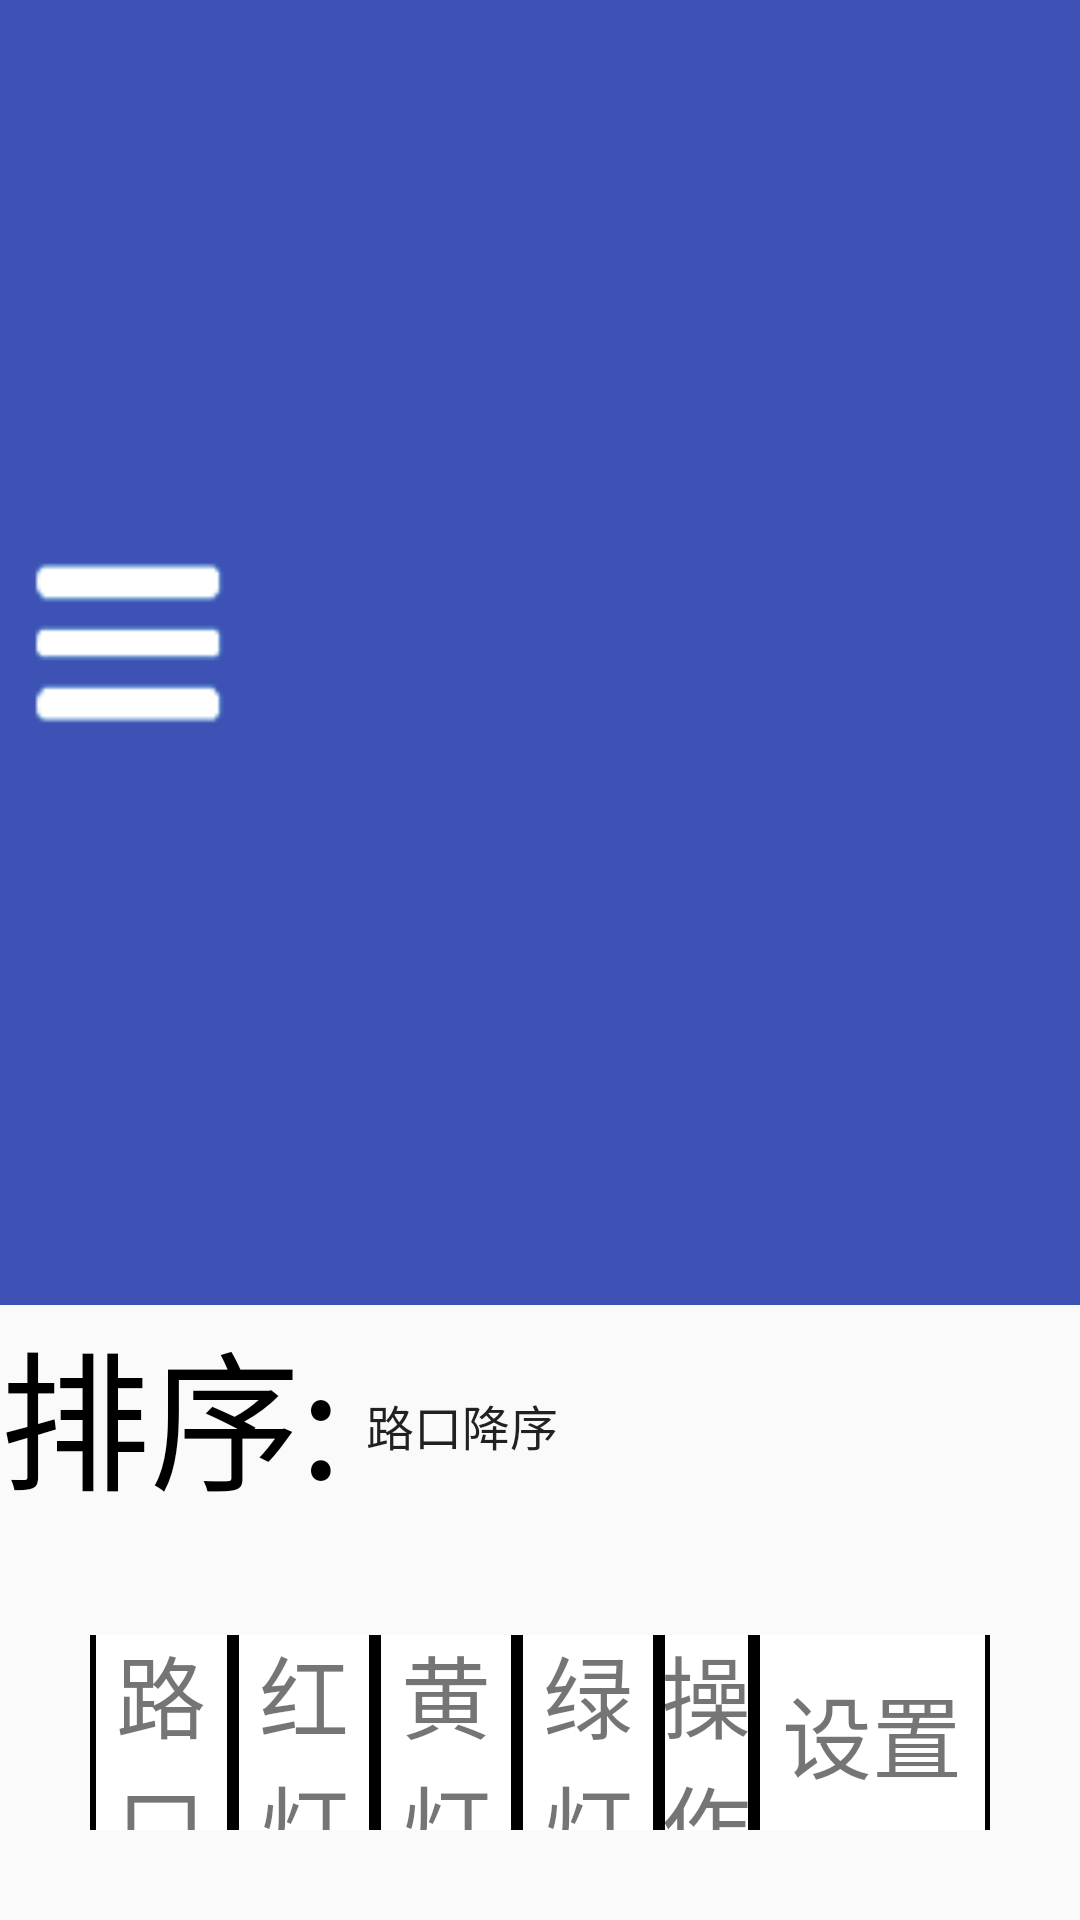

Screen size 1080×1920. Icon name, then its box in pixels as rect(x1, y1, x2, y2):
caidanfz: rect(35, 564, 222, 722)
